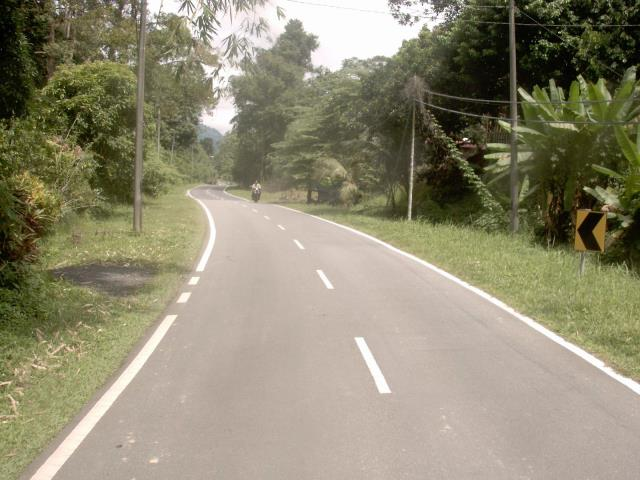traffic_sign: (564, 203, 615, 262)
